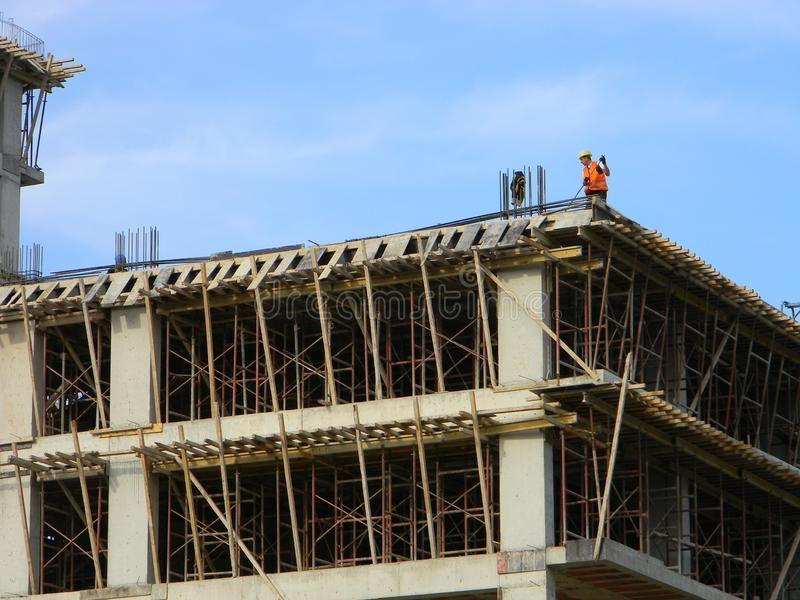helmet: (575, 150, 593, 161)
wear: (581, 163, 605, 193)
